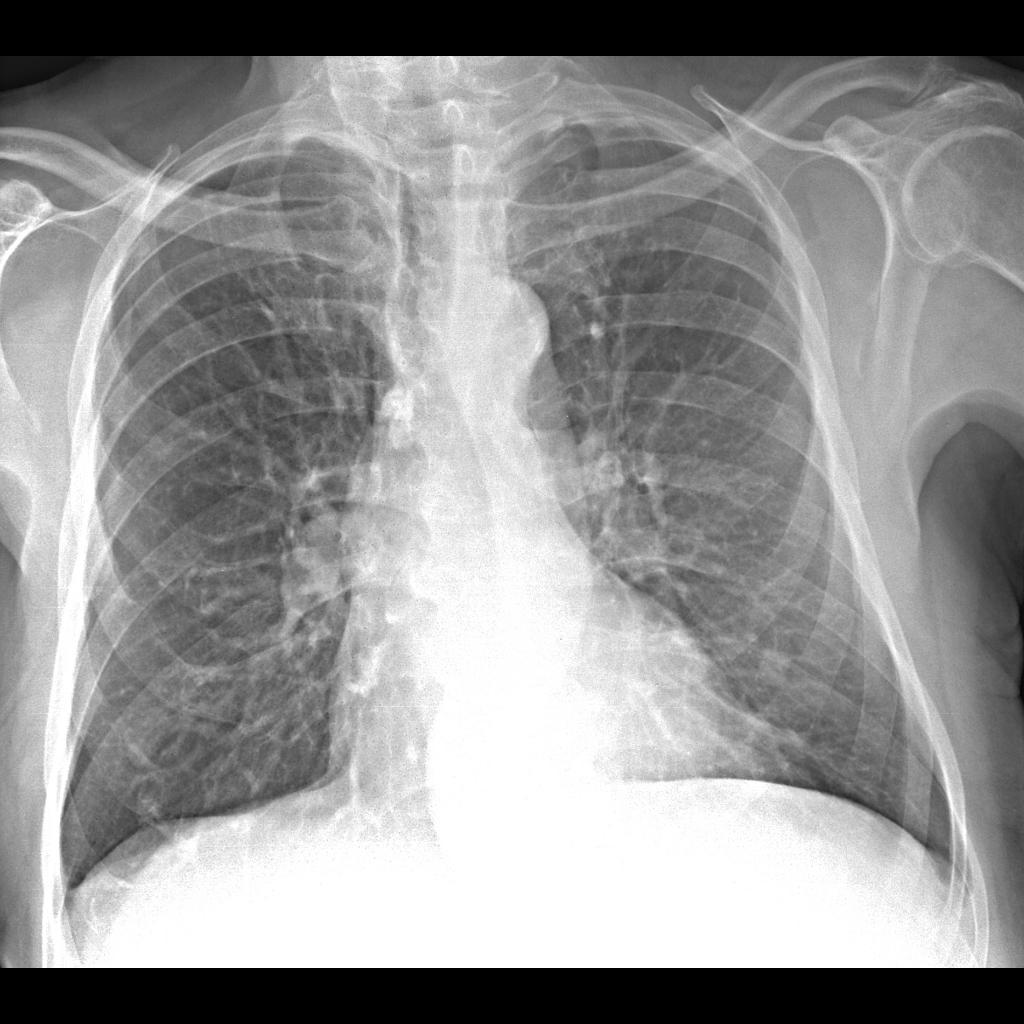Nodule: (752, 642, 801, 689)
